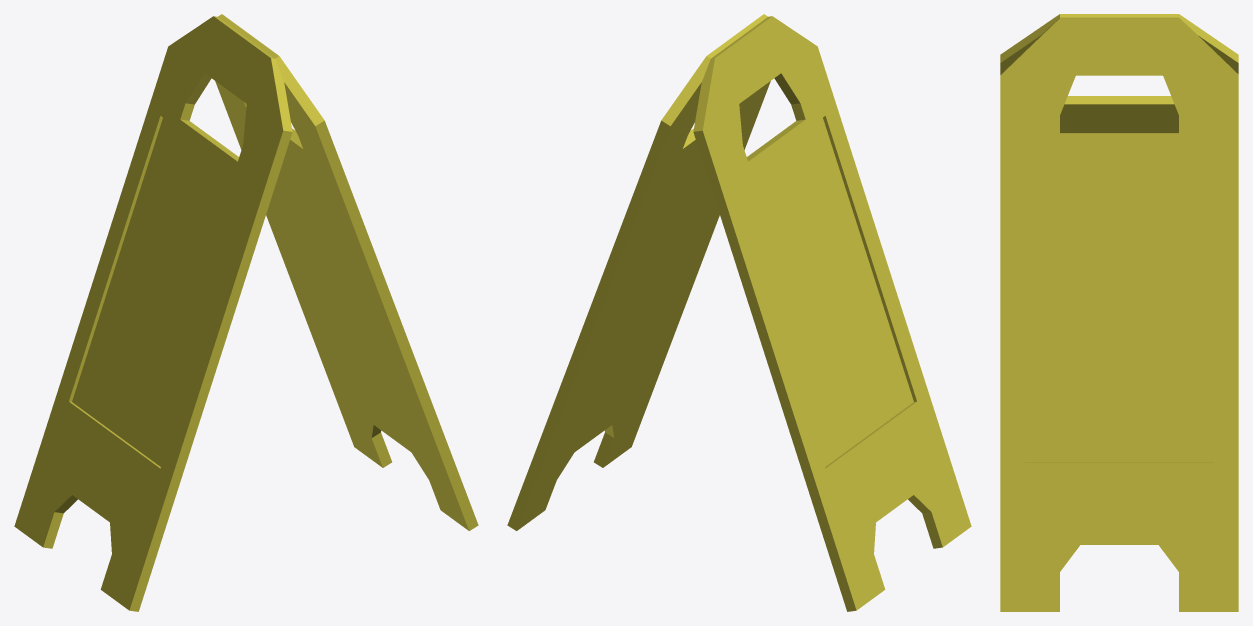
The model's file is WetFloor.glb.
3 views of the same model, side by side, from view 1: azimuth 30°, elevation 25°; view 2: azimuth 150°, elevation 25°; view 3: azimuth 270°, elevation 25° (orthographic). The views are drawn at different scales.
Visible parts, largest first — view 1: Cube, Cube.001; view 2: Cube, Cube.001; view 3: Cube.001, Cube.
Part boxes in pixels (x1,y1,x2,y2): Cube: [14, 16, 292, 611]; Cube.001: [215, 14, 478, 530]; Cube: [693, 16, 971, 611]; Cube.001: [507, 14, 770, 530]; Cube.001: [1000, 17, 1238, 611]; Cube: [1000, 14, 1238, 132].
Bounding box in the file's own units: 1.4 × 1.89 × 0.8.
Materials: 2 (2 with a texture image).
